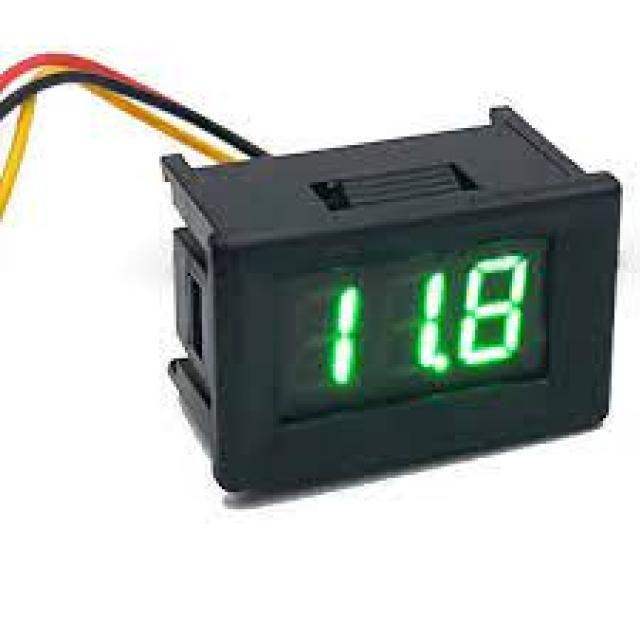1: (307, 270, 392, 392), (405, 263, 455, 379)
8: (454, 254, 539, 374)
screen: (271, 236, 558, 431)
